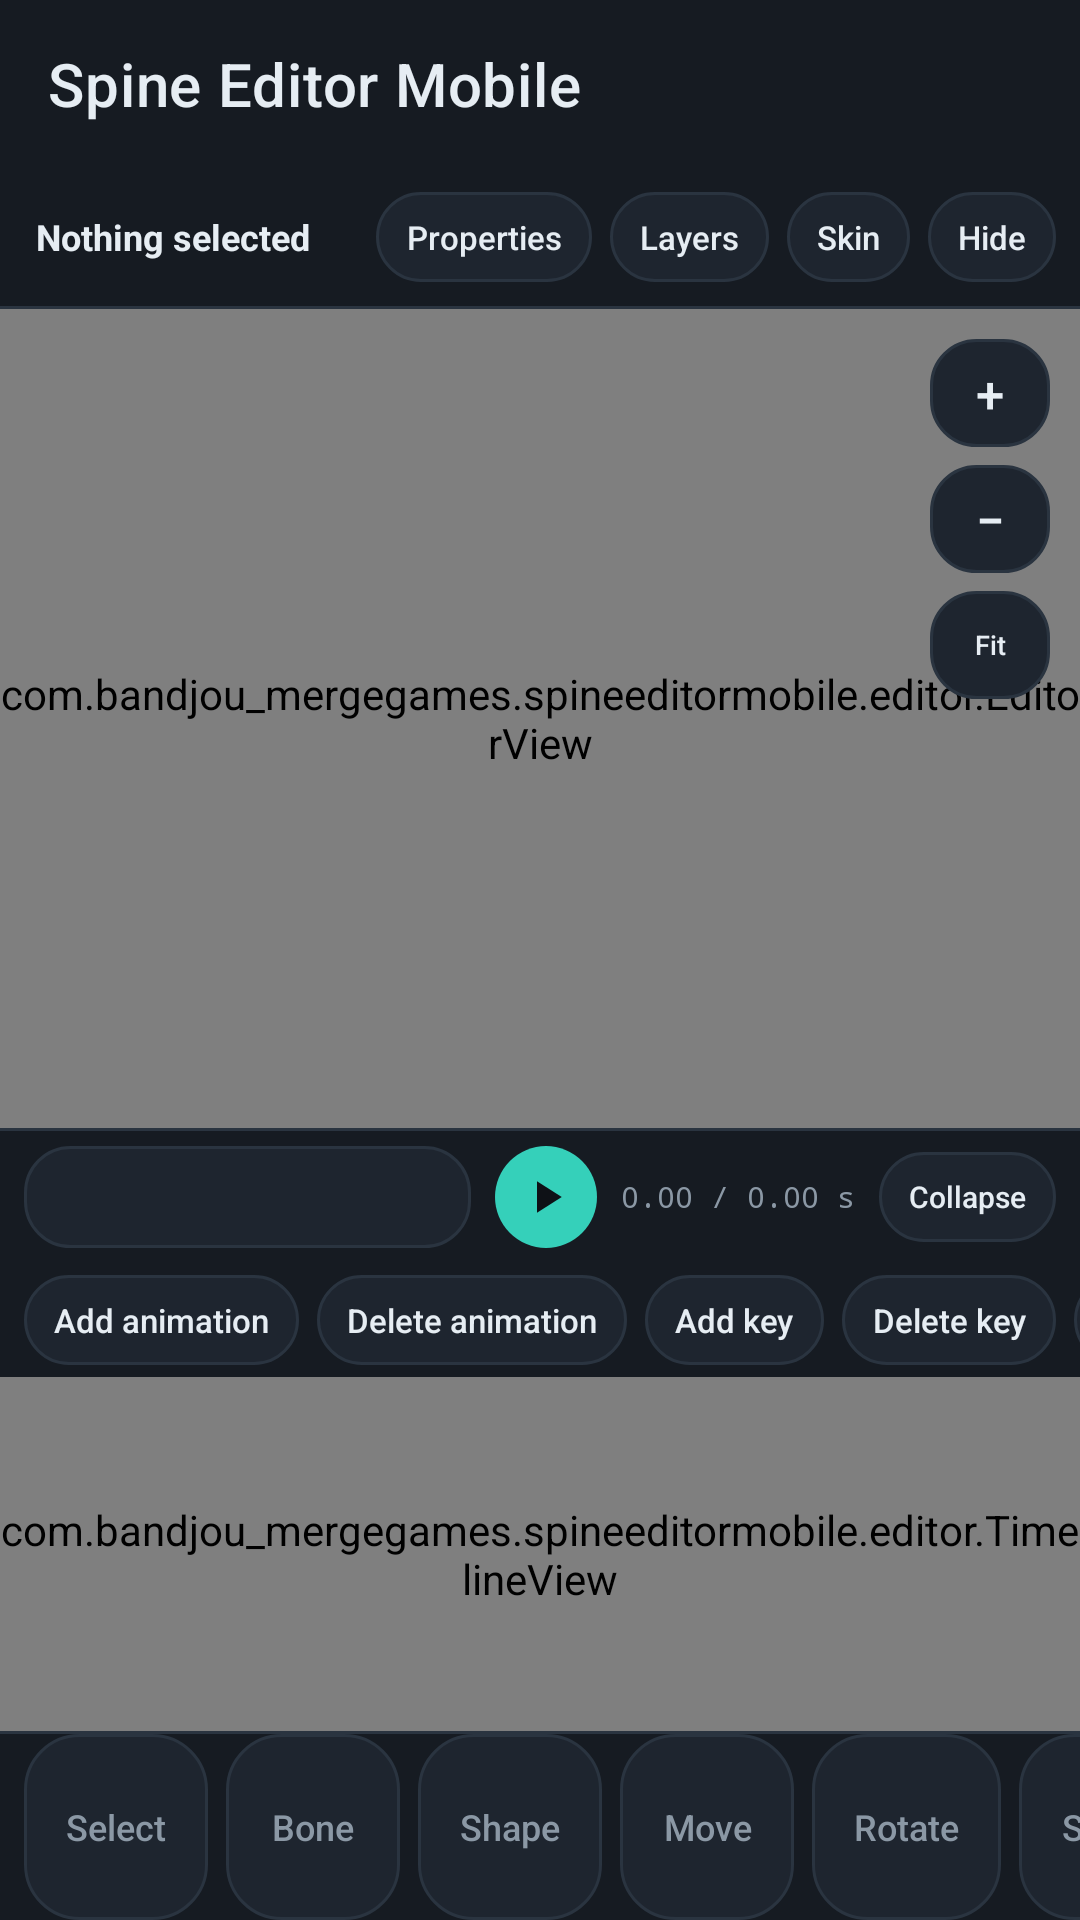

Named icons in this screenshot (1080*1920) and their bounding boxes, box=[x1, y1, x2, y2]:
Play: box=[495, 1146, 597, 1248]
